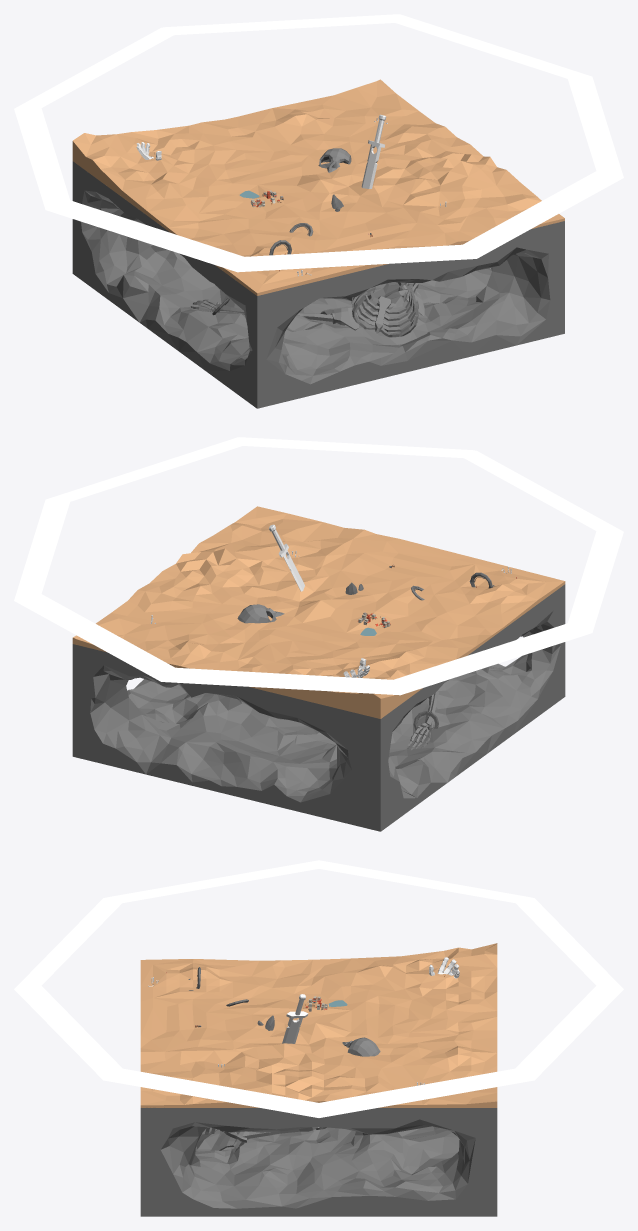
3 views of the same model, one above another, from view 1: azimuth 30°, elevation 25°; view 2: azimuth 150°, elevation 25°; view 3: azimuth 270°, elevation 25° (orthographic). The views are drawn at different scales.
Parts seen in each view (by area): view 1: Grid_15, Grid.002_51, Grid.001_49, torso_54, Cylinder.005_66, Cube.030_50; view 2: Grid.002_51, Grid_15, Grid.001_49, skull.002_55, Cylinder.005_66; view 3: Grid_15, Grid.002_51, Grid.001_49, Cube.030_50, skull.002_55.
Boxes of the visible parts, <box> form: Grid_15: <box>72,79,564,295</box>; Grid.002_51: <box>72,161,564,408</box>; Grid.001_49: <box>14,14,623,272</box>; torso_54: <box>351,283,418,337</box>; Cylinder.005_66: <box>190,282,411,325</box>; Cube.030_50: <box>361,114,386,188</box>; Grid.002_51: <box>72,584,565,831</box>; Grid_15: <box>72,506,565,718</box>; Grid.001_49: <box>14,437,623,695</box>; skull.002_55: <box>237,604,284,623</box>; Cylinder.005_66: <box>406,690,438,750</box>; Grid_15: <box>140,943,497,1107</box>; Grid.002_51: <box>140,1108,497,1216</box>; Grid.001_49: <box>14,860,623,1117</box>; Cube.030_50: <box>282,994,308,1043</box>; skull.002_55: <box>342,1037,380,1056</box>.
Size of the model in its own units: 955 by 303 by 955.
